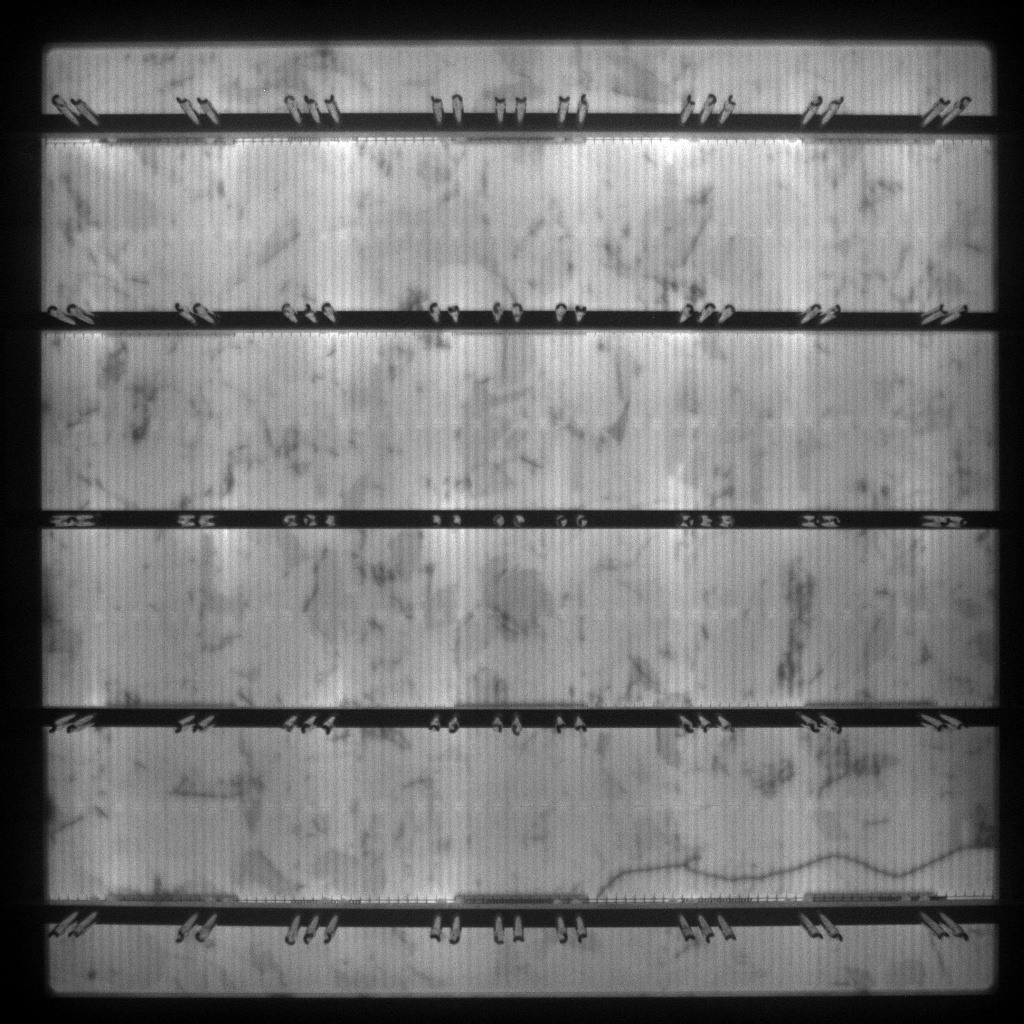crack: (596, 839, 994, 890)
